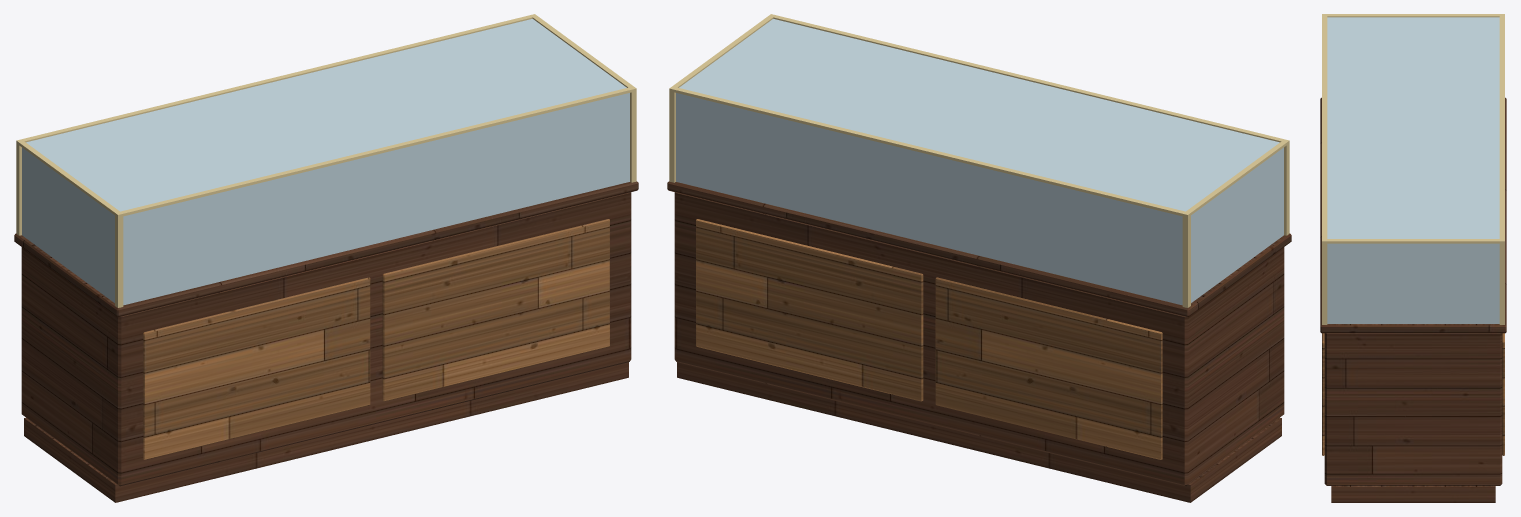
File: display_case_l.glb
3 renders of one model, left to right at view 1: azimuth 30°, elevation 25°; view 2: azimuth 150°, elevation 25°; view 3: azimuth 270°, elevation 25°, orthographic. The views are drawn at different scales.
Parts seen in each view (by area): view 1: display_case_l_glass, display_case_l_dkwood, display_case_l_oak, display_case_l_brass; view 2: display_case_l_glass, display_case_l_dkwood, display_case_l_oak, display_case_l_brass; view 3: display_case_l_glass, display_case_l_dkwood, display_case_l_brass, display_case_l_oak.
Part boxes in pixels (x1,y1,x2,y2): display_case_l_glass: (22,19,629,305); display_case_l_dkwood: (14,181,638,502); display_case_l_oak: (143,219,609,459); display_case_l_brass: (16,14,636,307); display_case_l_glass: (676,19,1283,305); display_case_l_dkwood: (667,181,1291,502); display_case_l_oak: (696,219,1162,459); display_case_l_brass: (669,14,1289,307); display_case_l_glass: (1327,17,1499,323); display_case_l_dkwood: (1320,97,1506,502); display_case_l_brass: (1322,14,1504,324); display_case_l_oak: (1322,333,1504,455).
Bounding box in the file's own units: 2.44 × 1.31 × 0.84.
7 materials, 2 textured.
